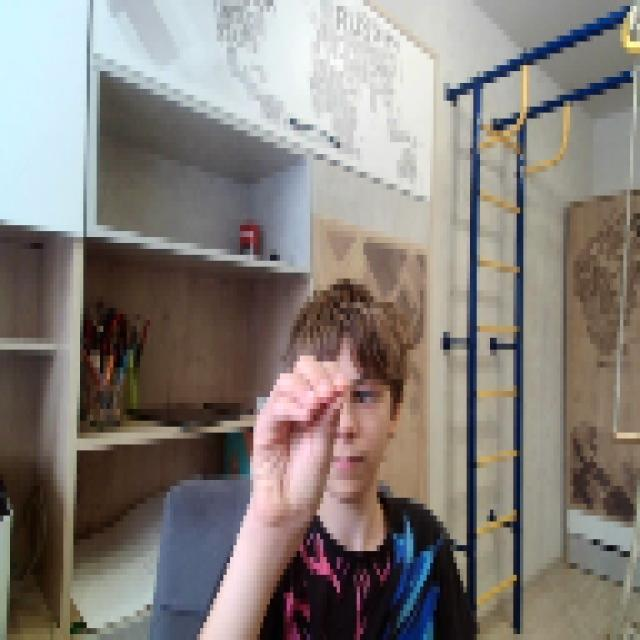left_click: (247, 344, 343, 527)
